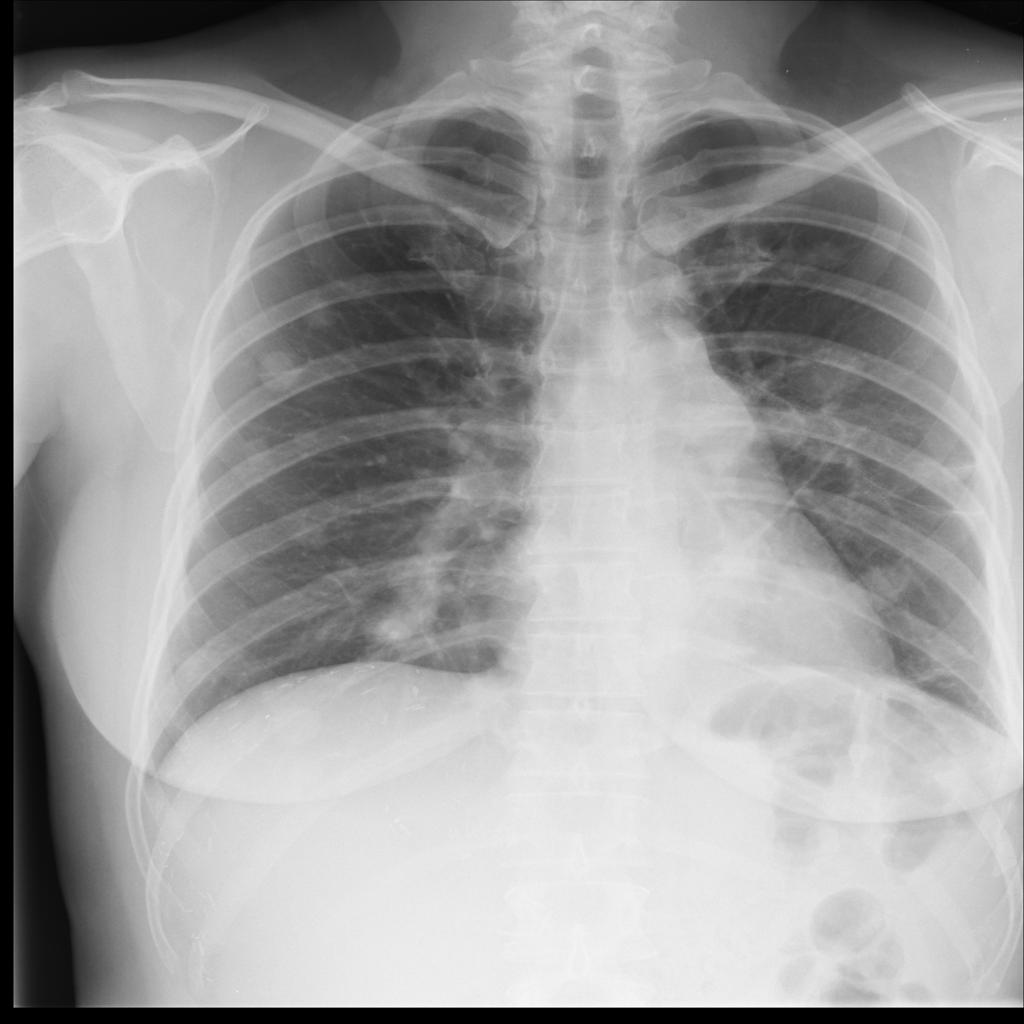nodule: (789, 338, 876, 409), (349, 593, 439, 658), (256, 693, 339, 756), (243, 340, 317, 405), (289, 287, 349, 337), (280, 418, 337, 464), (225, 424, 277, 471)
